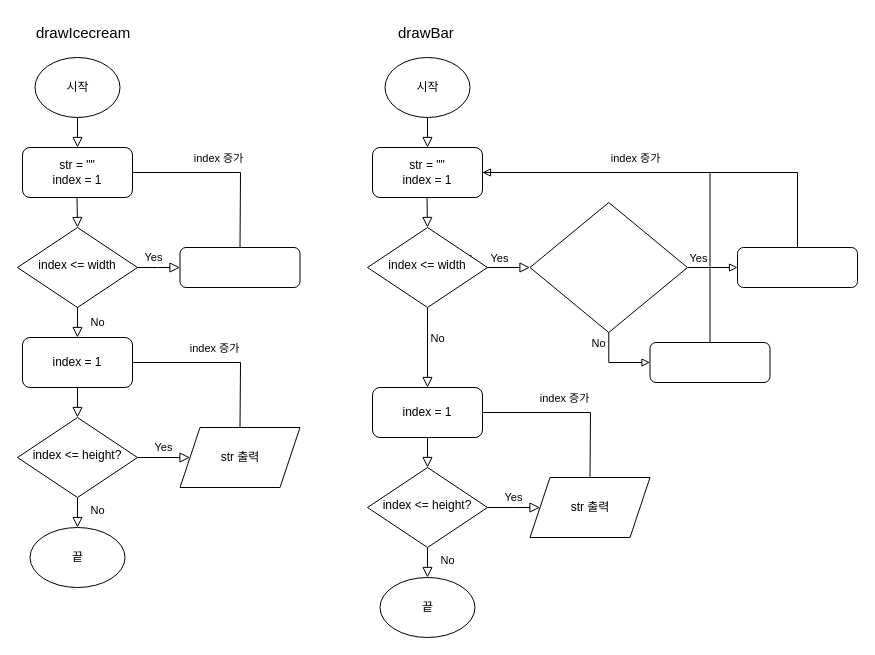
The diagram is 875 pixels wide and 655 high, and some of its shapes have lost their labels. Each missing label, with the centre of its shape:
index == width / 2 혹은 index == width / 2 + 2: (x=608, y=267)
str에 " "추가: (x=709, y=362)
str에 "*"추가: (x=239, y=267)
str에 "|"추가: (x=797, y=267)
